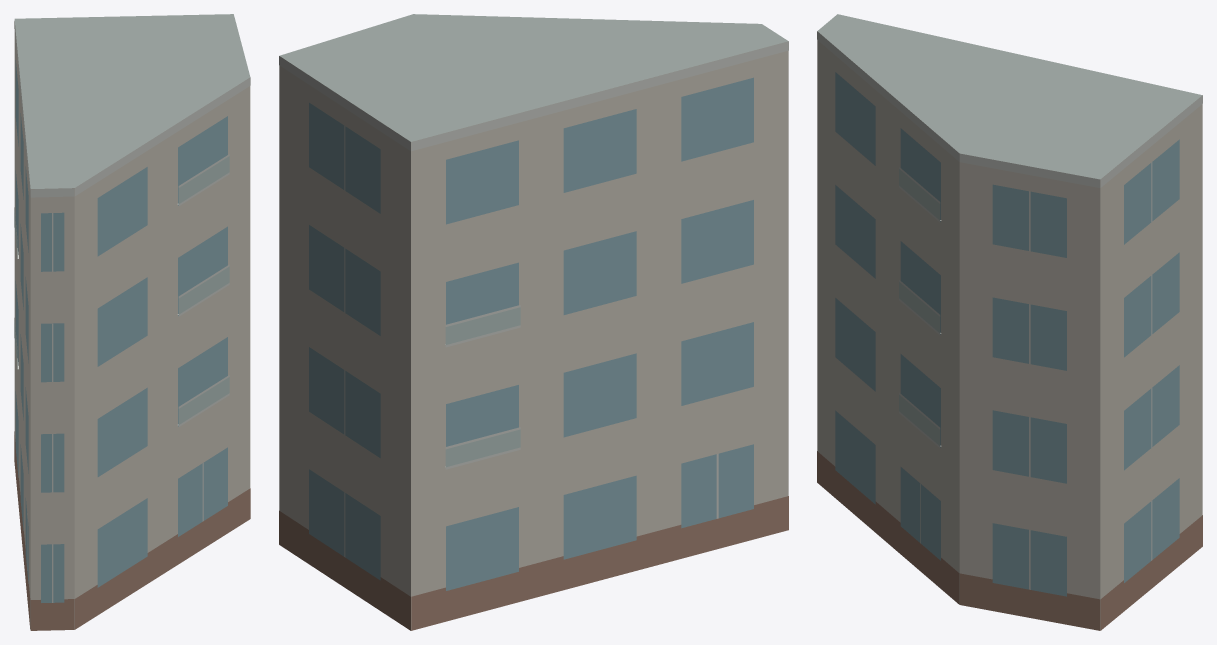
File: survey-upis-32724569.glb
3 renders of one model, left to right at view 1: azimuth 30°, elevation 25°; view 2: azimuth 150°, elevation 25°; view 3: azimuth 270°, elevation 25°, orthographic. The views are drawn at different scales.
Parts seen in each view (by area): view 1: survey-upis-32724569.tmp; view 2: survey-upis-32724569.tmp; view 3: survey-upis-32724569.tmp.
Boxes of the visible parts, x1,y1,x2,y2 form: survey-upis-32724569.tmp: (14, 14, 250, 630); survey-upis-32724569.tmp: (279, 14, 788, 630); survey-upis-32724569.tmp: (817, 14, 1202, 630).
Bounding box in the file's own units: 9.99 × 12.7 × 9.84.
